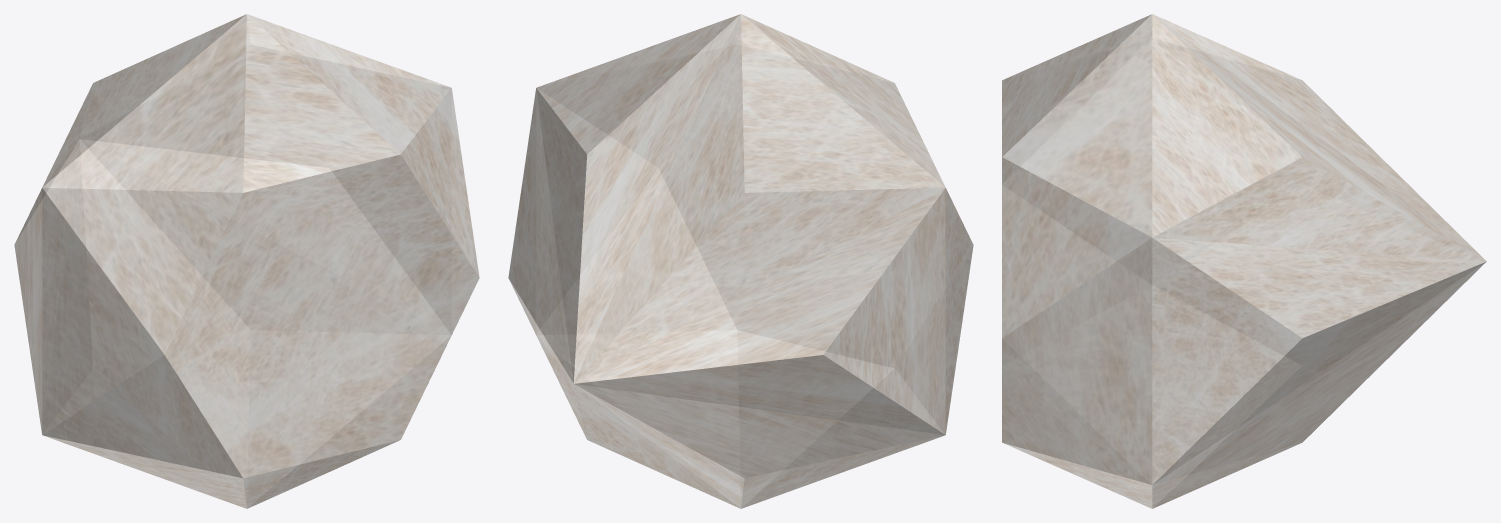
Rendered from HexagonalAntiprism2.obj.
3 views of the same model, side by side, from view 1: azimuth 30°, elevation 25°; view 2: azimuth 150°, elevation 25°; view 3: azimuth 270°, elevation 25° (orthographic).
Size of the model in its own units: 1.73 by 2 by 1.78.
Materials: 1 (1 with a texture image).
